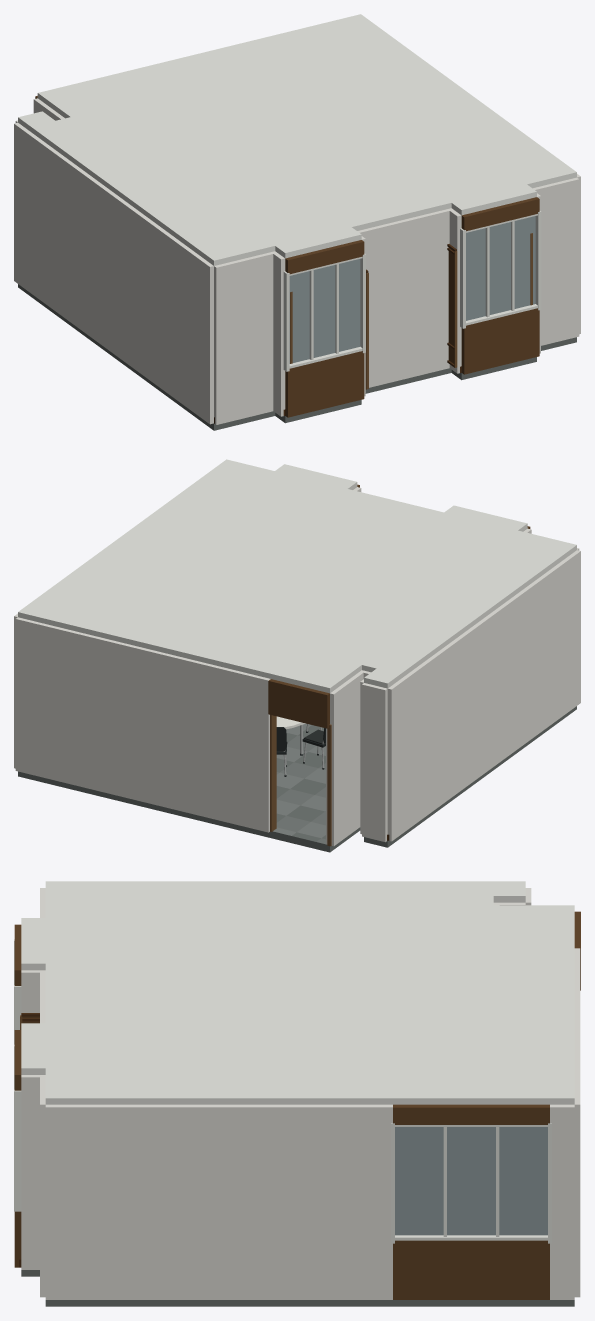
The model's file is old-126-interior-23afe80e2ada.glb.
The picture shows the model from 3 angles, top to bottom: view 1: azimuth 30°, elevation 25°; view 2: azimuth 150°, elevation 25°; view 3: azimuth 270°, elevation 25°; orthographic projection. The views are drawn at different scales.
Visible parts, largest first — view 1: old-126; view 2: old-126; view 3: old-126.
Part boxes in pixels (<box>): old-126: <box>14,14,580,430</box>; old-126: <box>14,459,580,852</box>; old-126: <box>14,881,580,1306</box>.
Size of the model in its own units: 7.3 by 3.19 by 7.87.
